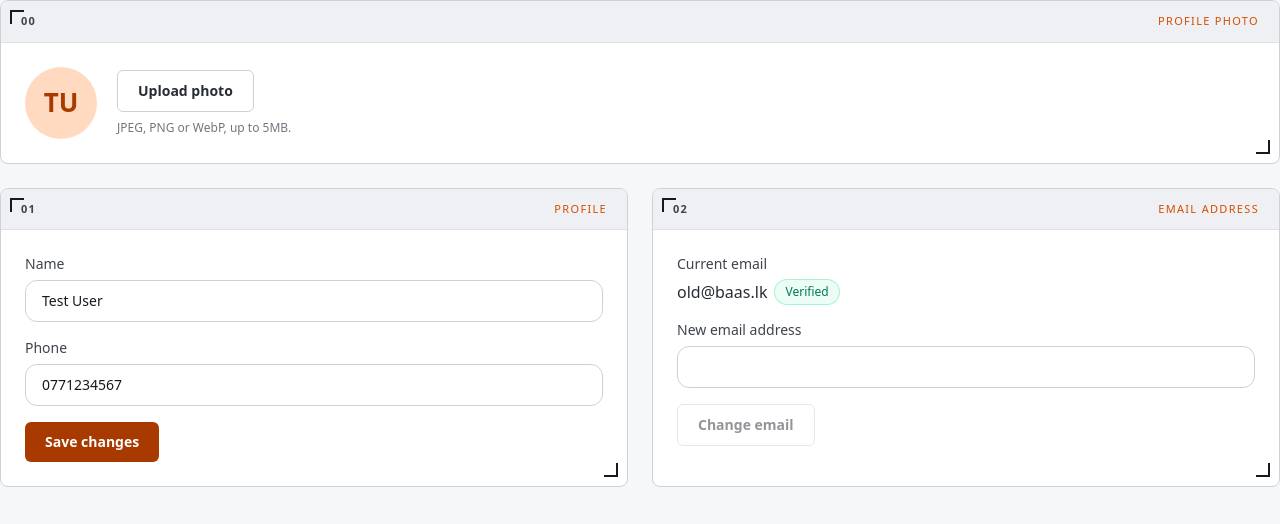
it: AccountDetails — change email › hides the password field and posts only the address for a social-only account
The image size is (1280, 524).
Type "new@baas.lk" into the field labelled "New email address" at (966, 367), box x1=677 y1=346 x2=1255 y2=388
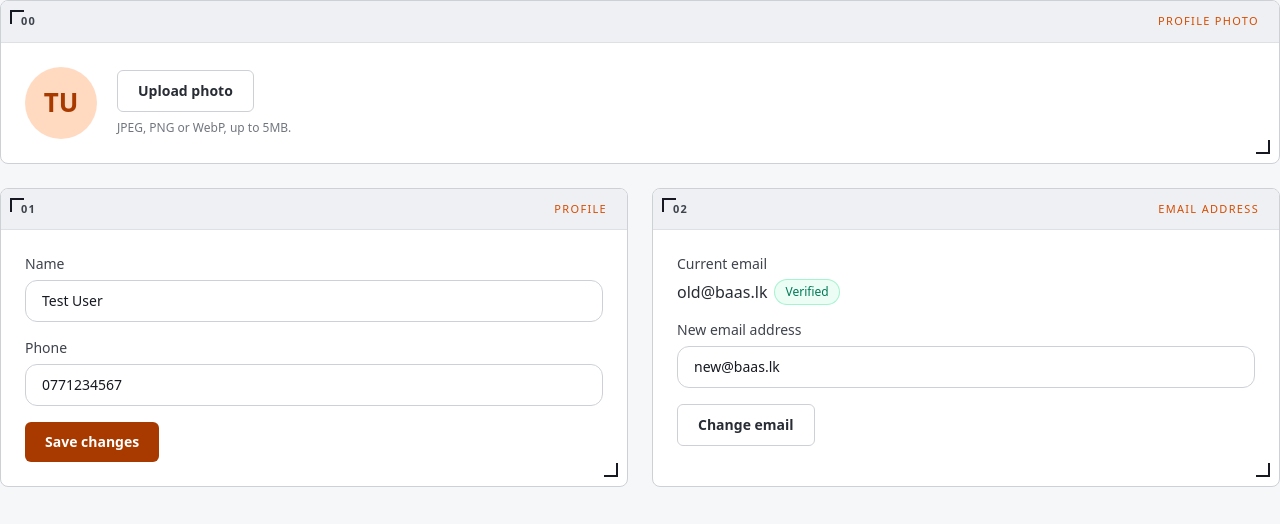
Submit the form named "Change email", box x1=652 y1=188 x2=1279 y2=487
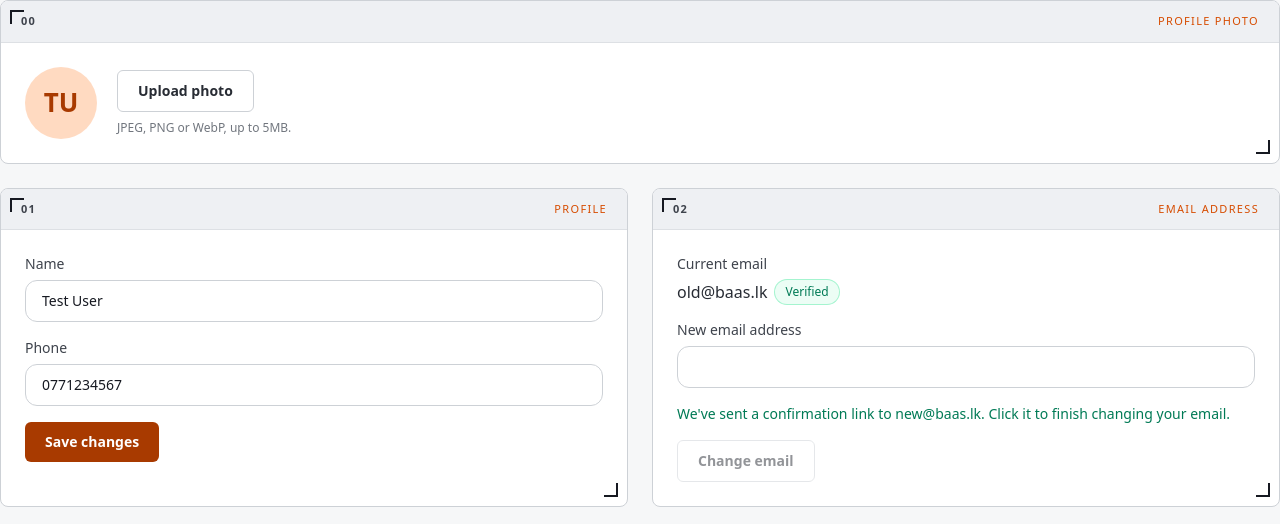
expect the message is shown: met, box x1=677 y1=404 x2=1255 y2=424
